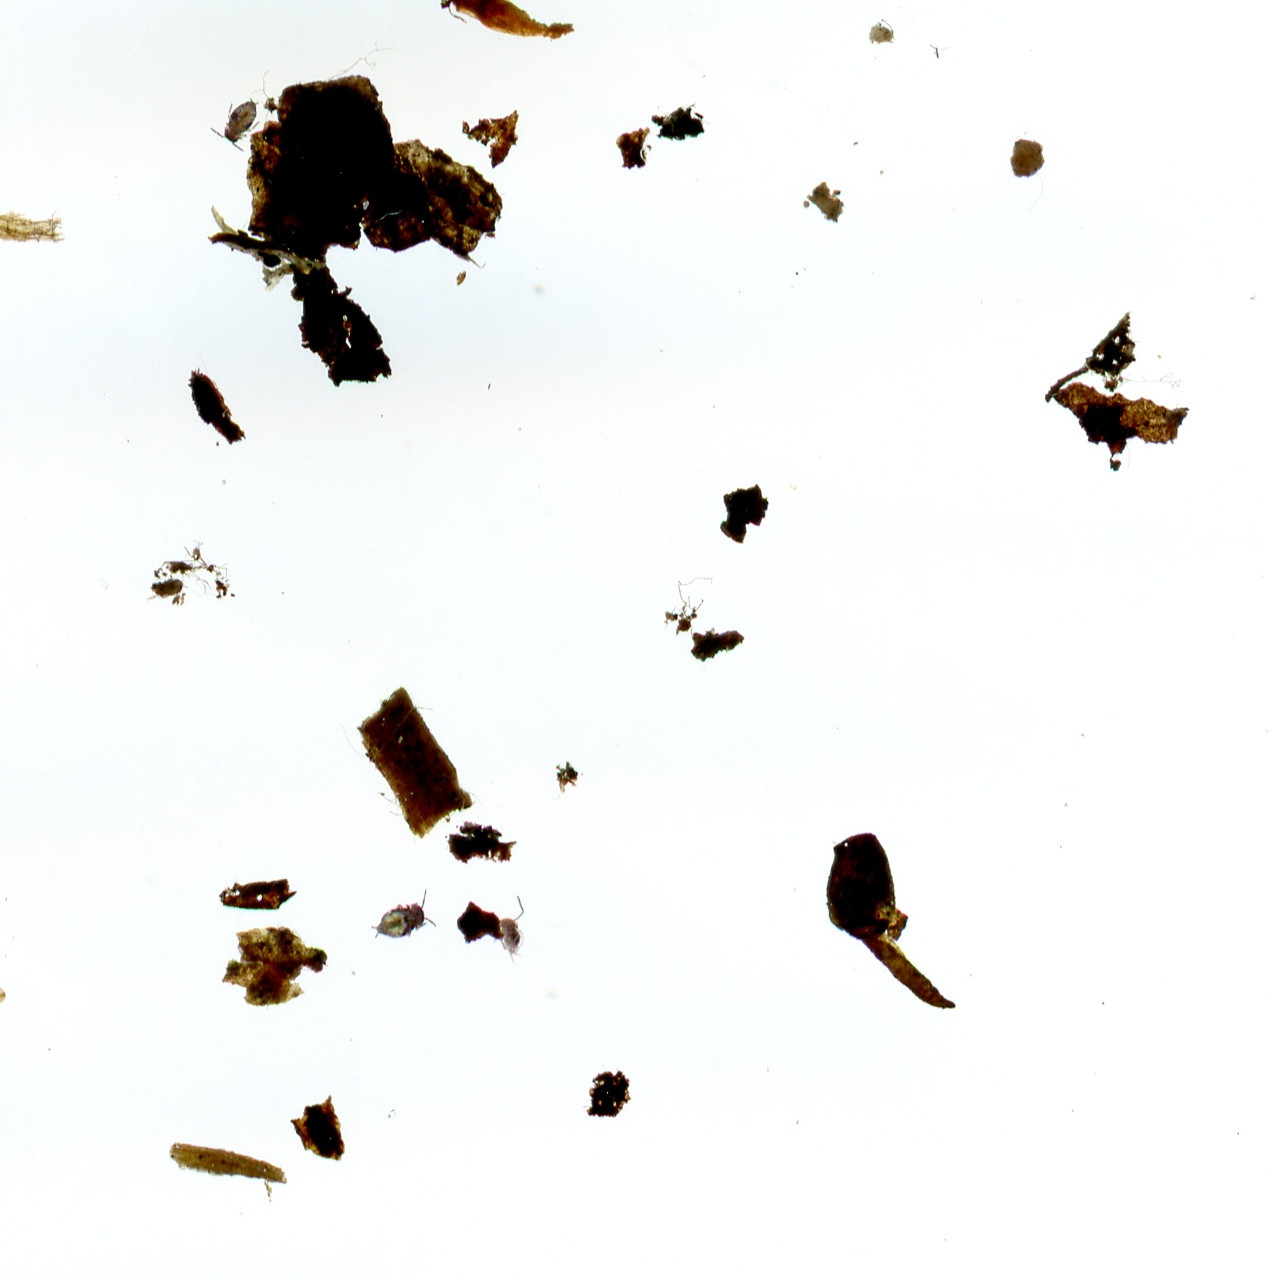arthropod: (361, 884, 444, 953), (204, 83, 274, 158), (492, 893, 527, 966)
